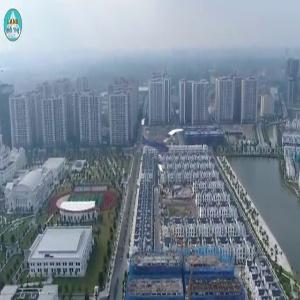drone: (134, 120, 189, 175)
